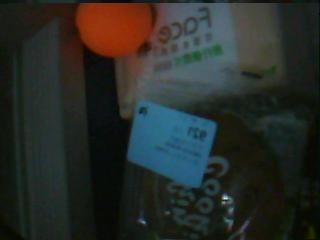oball: (75, 4, 150, 57)
